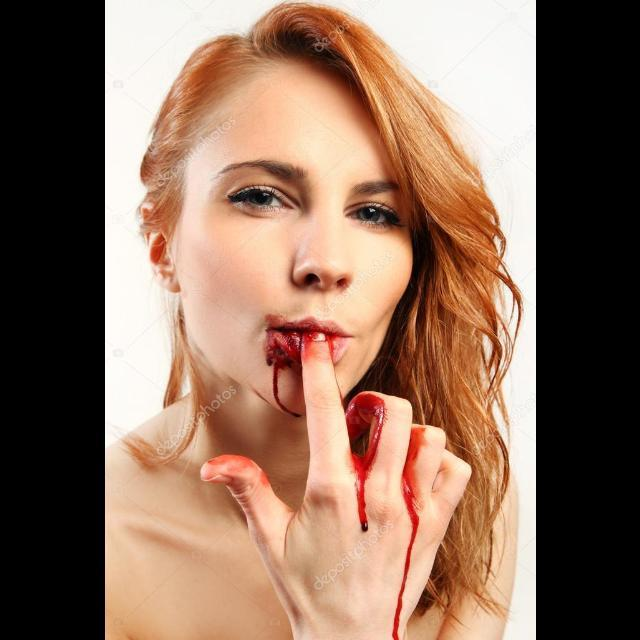blood: (392, 424, 426, 640), (252, 315, 321, 418), (345, 393, 386, 532), (200, 455, 263, 480)
